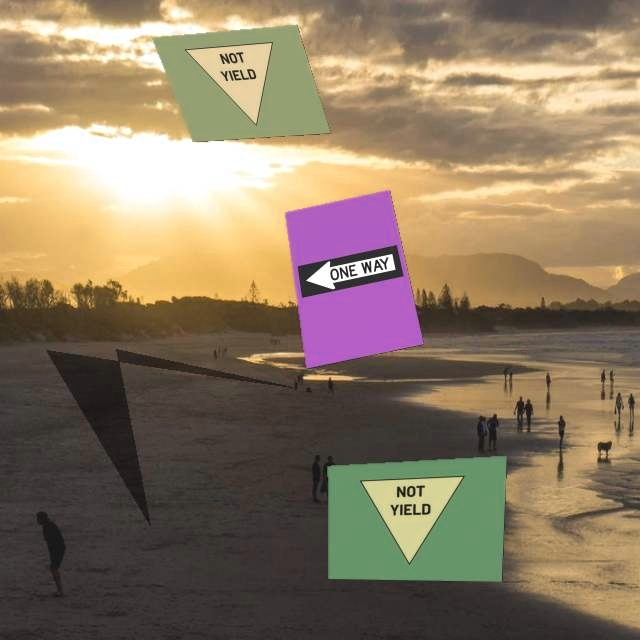NOT_YIELD: (185, 36, 299, 136), (360, 476, 465, 565)
ONE_WAY_ left: (295, 245, 405, 298)
